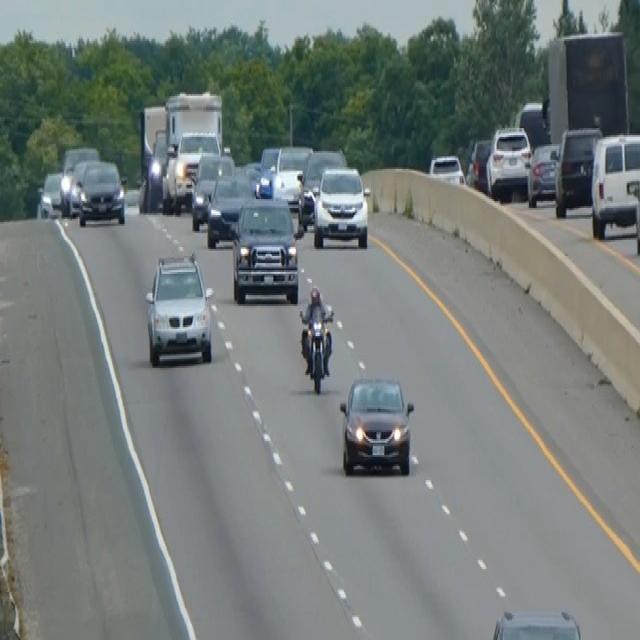car: (337, 370, 416, 478), (143, 249, 214, 366), (589, 130, 639, 238), (312, 163, 369, 249), (162, 128, 220, 212), (554, 124, 601, 217), (298, 148, 346, 228), (189, 149, 235, 231), (205, 171, 254, 247), (485, 123, 532, 201), (77, 156, 126, 226), (489, 606, 583, 638), (59, 144, 100, 215), (272, 142, 312, 206), (526, 140, 561, 207), (428, 151, 465, 187), (466, 137, 491, 190), (38, 169, 64, 219), (632, 167, 639, 256)
jeep: (229, 194, 300, 304)
motorcycle: (298, 304, 334, 395)
truck: (544, 29, 631, 148)
